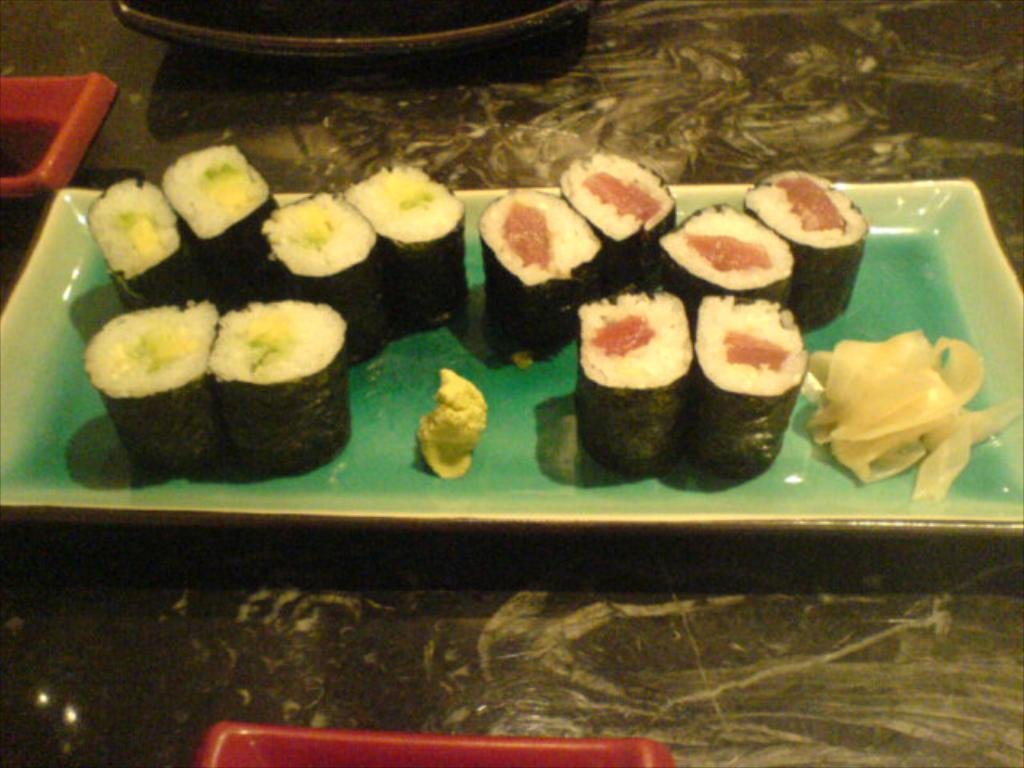sushi: (86, 142, 462, 474), (480, 150, 864, 475), (691, 309, 806, 474)
